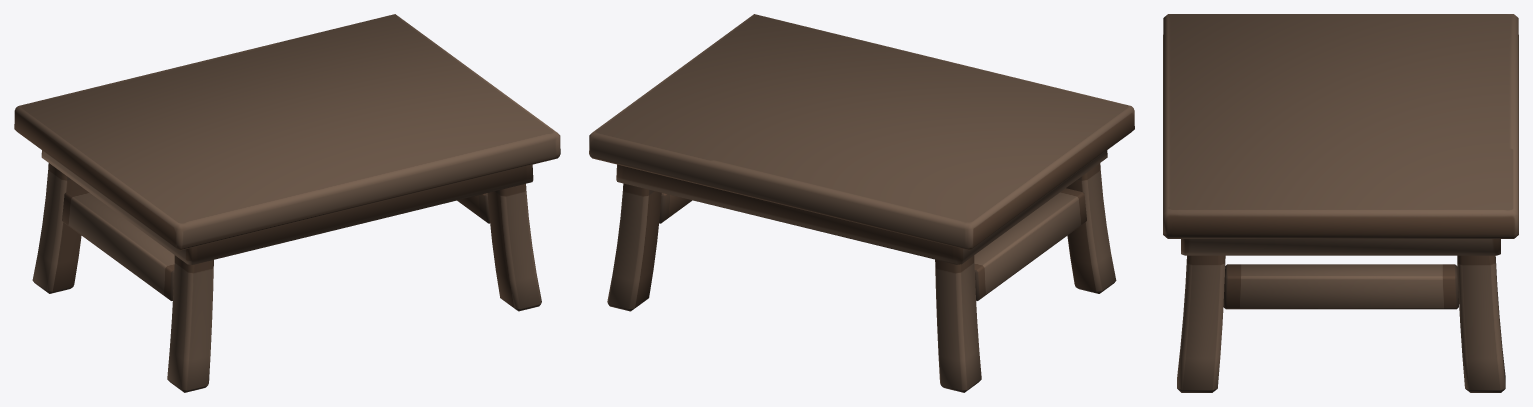
The model's file is housepack_table_3.FBX.
3 renders of one model, left to right at view 1: azimuth 30°, elevation 25°; view 2: azimuth 150°, elevation 25°; view 3: azimuth 270°, elevation 25°, orthographic. The views are drawn at different scales.
Parts seen in each view (by area): view 1: housepack_table_3; view 2: housepack_table_3; view 3: housepack_table_3.
Part boxes in pixels (box(x1,y1,x2,y2)): housepack_table_3: box(14, 14, 560, 392); housepack_table_3: box(589, 14, 1134, 392); housepack_table_3: box(1163, 14, 1518, 392).
Size of the model in its own units: 100 by 43.75 by 75.
